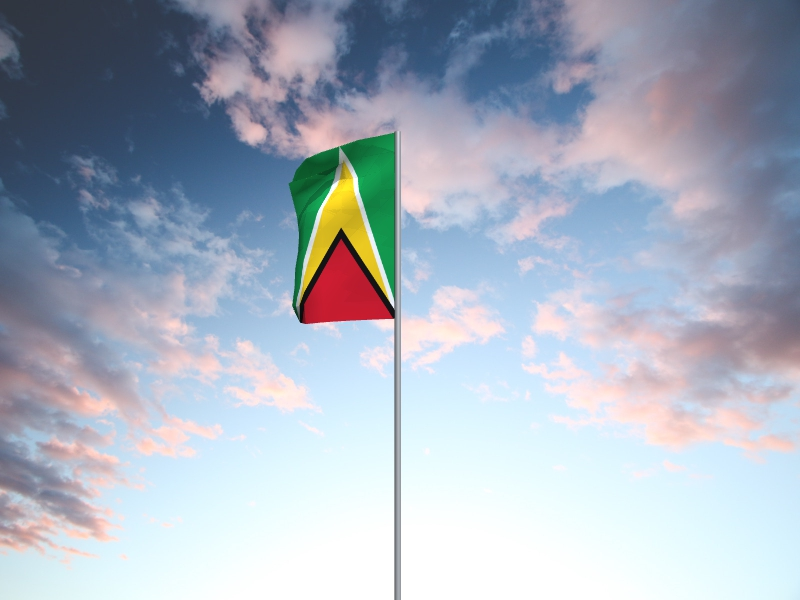gy: (288, 133, 395, 326)
